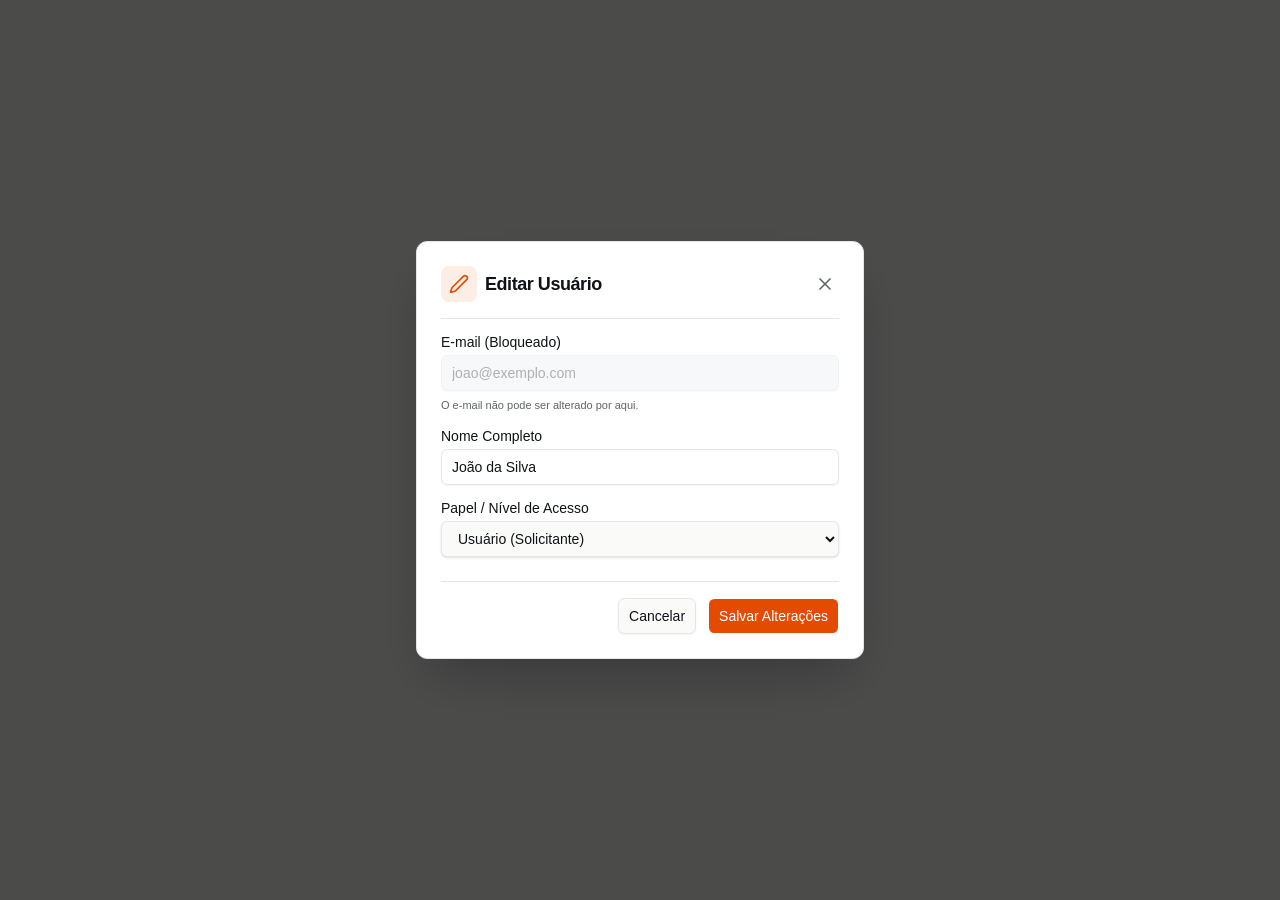
Test: EditUserModal › deve exibir erro se o nome for limpo e submetido vazio
The width and height of the screenshot is (1280, 900).
Step 1. Clear the field labelled "Nome Completo" → [640, 467], box left=441, top=449, right=839, bottom=485
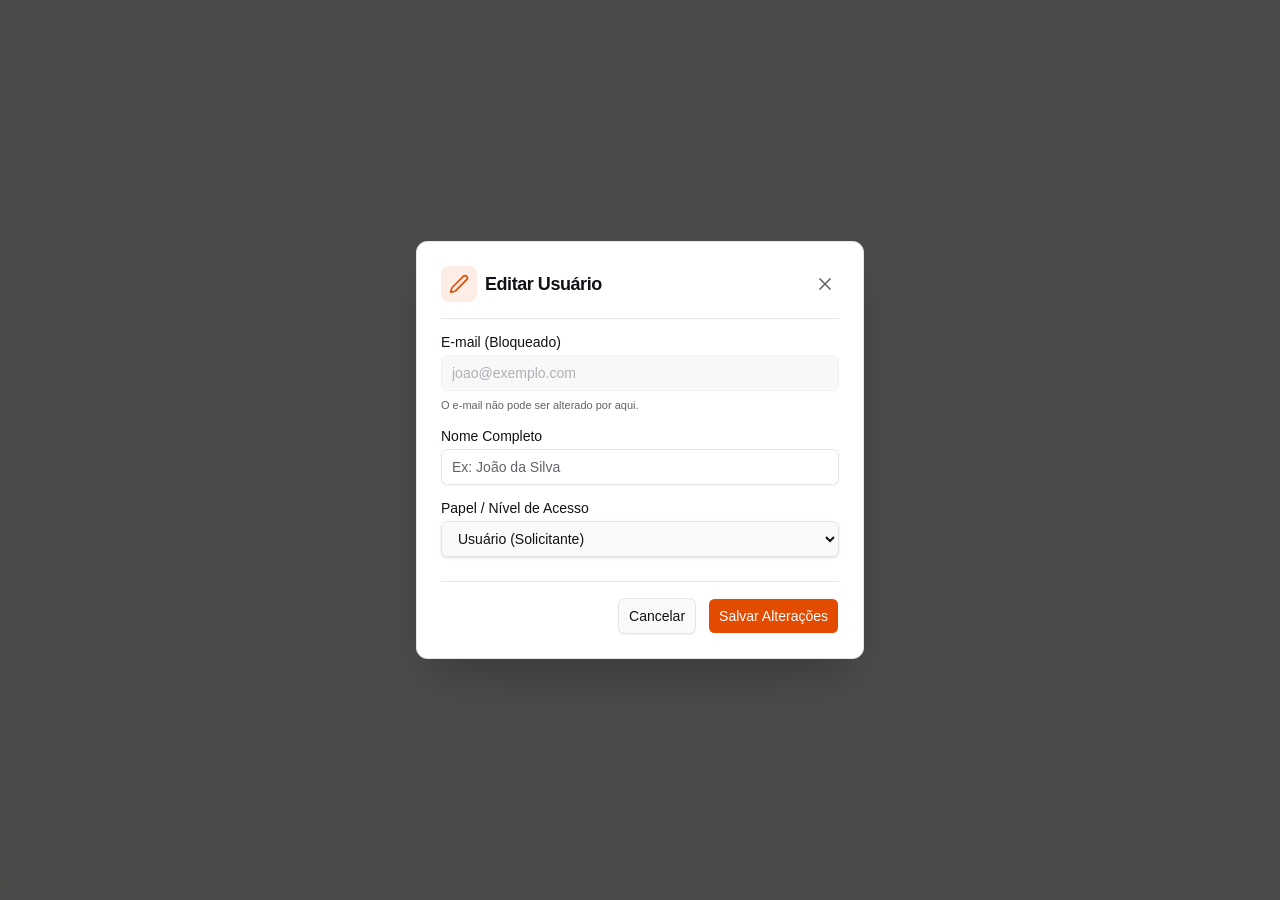
Step 2. Click the button "Salvar Alterações" → [774, 616], box left=708, top=598, right=839, bottom=634
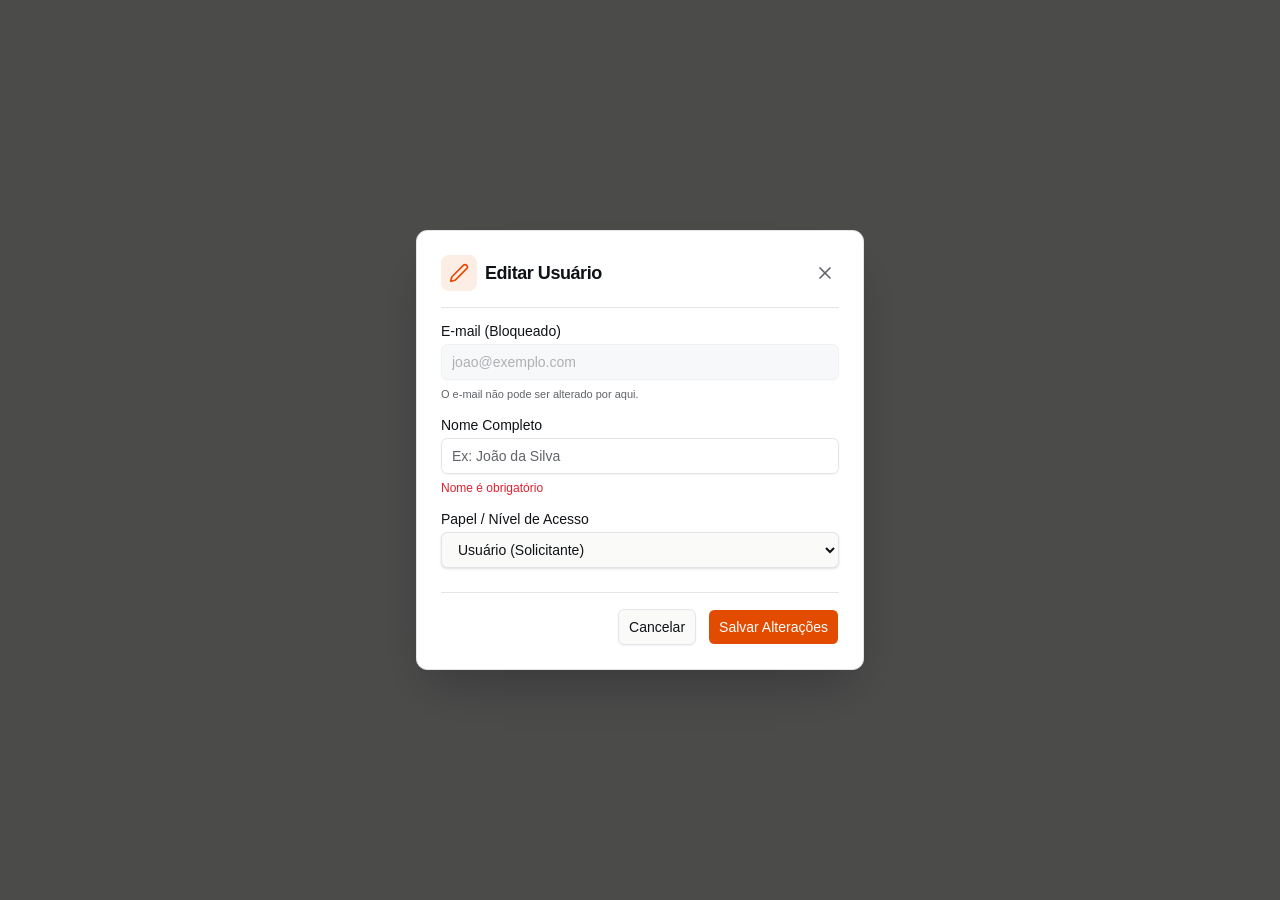
Now the text "Nome é obrigatório" is shown, box left=441, top=481, right=543, bottom=495
